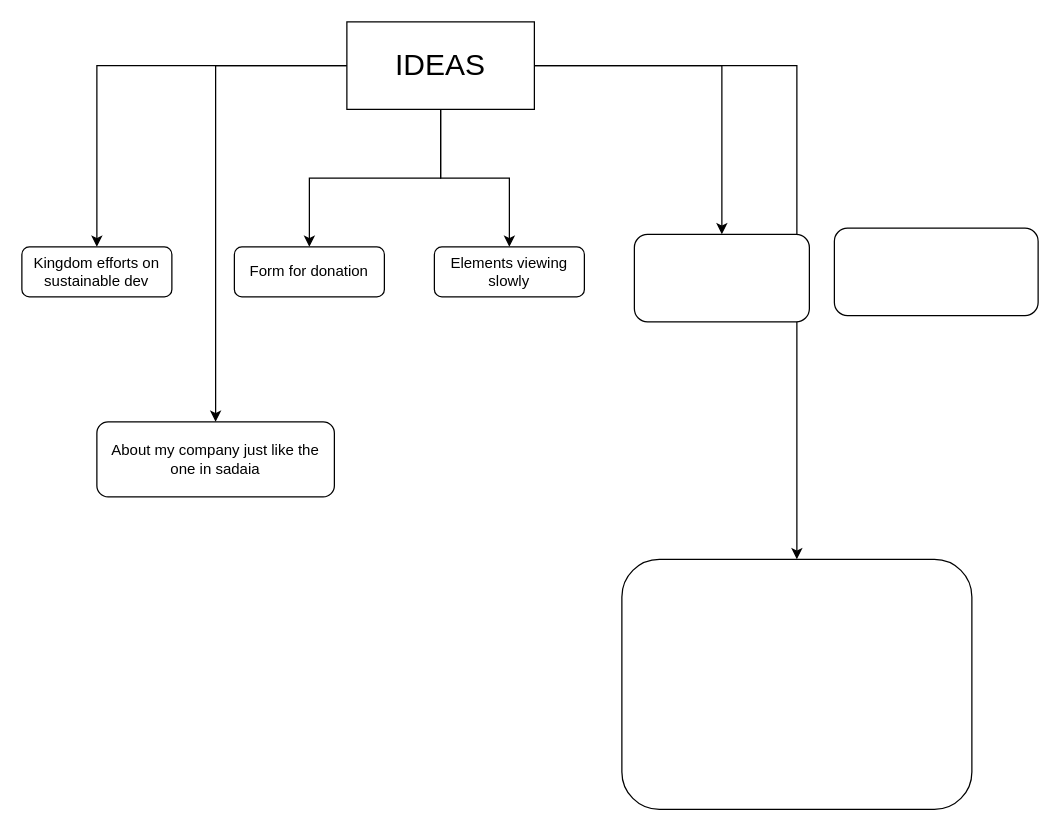
Image size: 1060x831. Some labels were removed from this diagram. Each missing label, with the box of its shape:
Companies apps (tawklna) credit on footer: (633, 233, 809, 322)
Signing in and welcoming signers: (621, 558, 972, 809)
When hovering on a card the background changes: (833, 227, 1038, 316)
